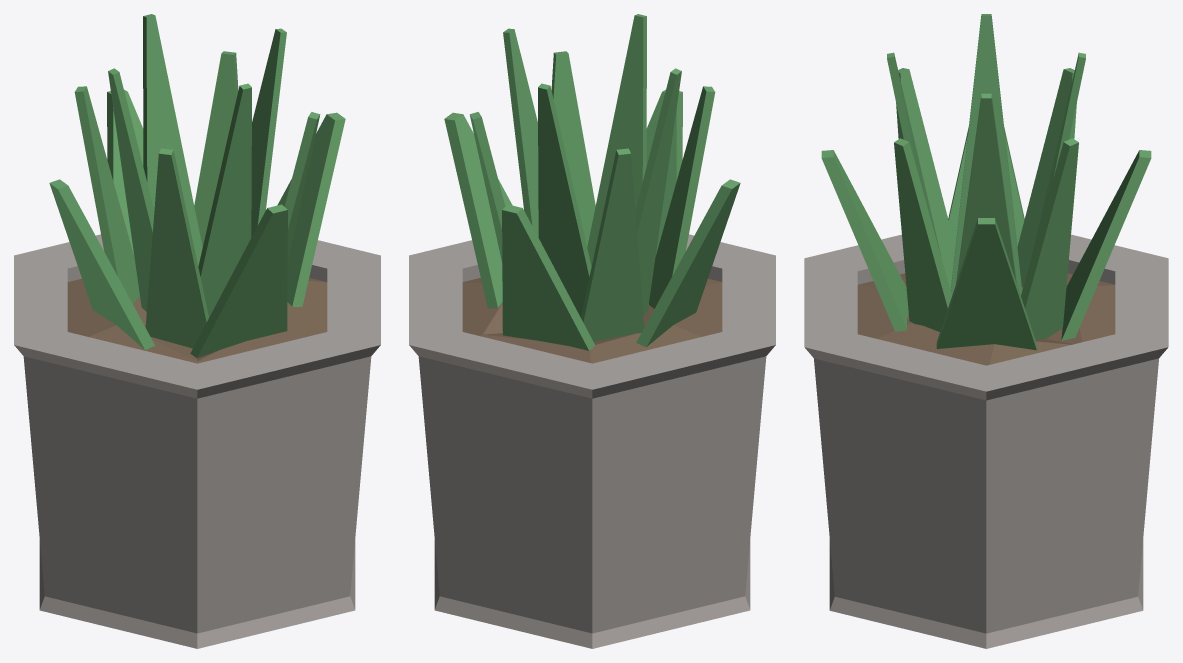
Rendered from Plant_2.fbx.
The picture shows the model from 3 angles, left to right: view 1: azimuth 30°, elevation 25°; view 2: azimuth 150°, elevation 25°; view 3: azimuth 270°, elevation 25°; orthographic projection.
Visible parts, largest first — view 1: pCylinder2; view 2: pCylinder2; view 3: pCylinder2.
Part boxes in pixels (x1,y1,x2,y2): pCylinder2: (14,14,380,648); pCylinder2: (409,14,775,648); pCylinder2: (804,14,1168,648).
Size of the model in its own units: 1.41 by 1.92 by 1.22.
